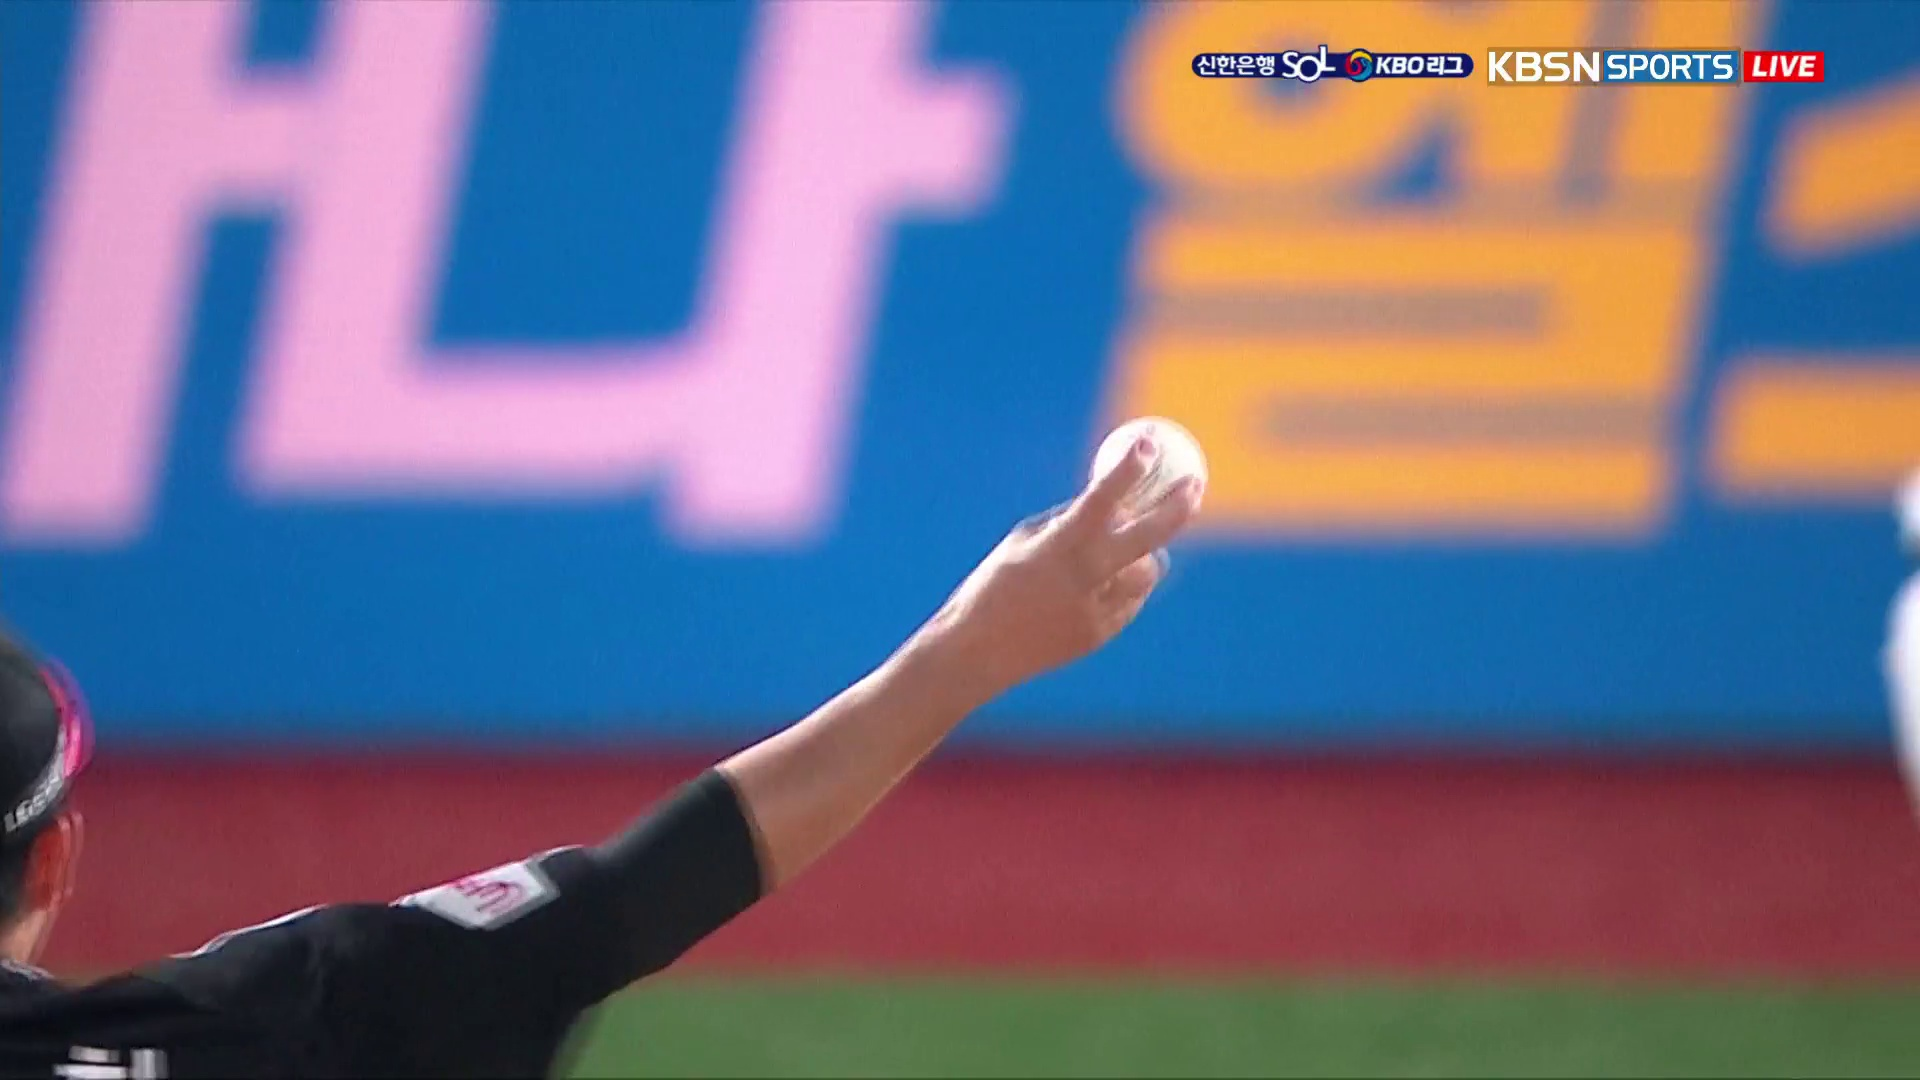zoomin_hand: (574, 405, 1222, 1006)
